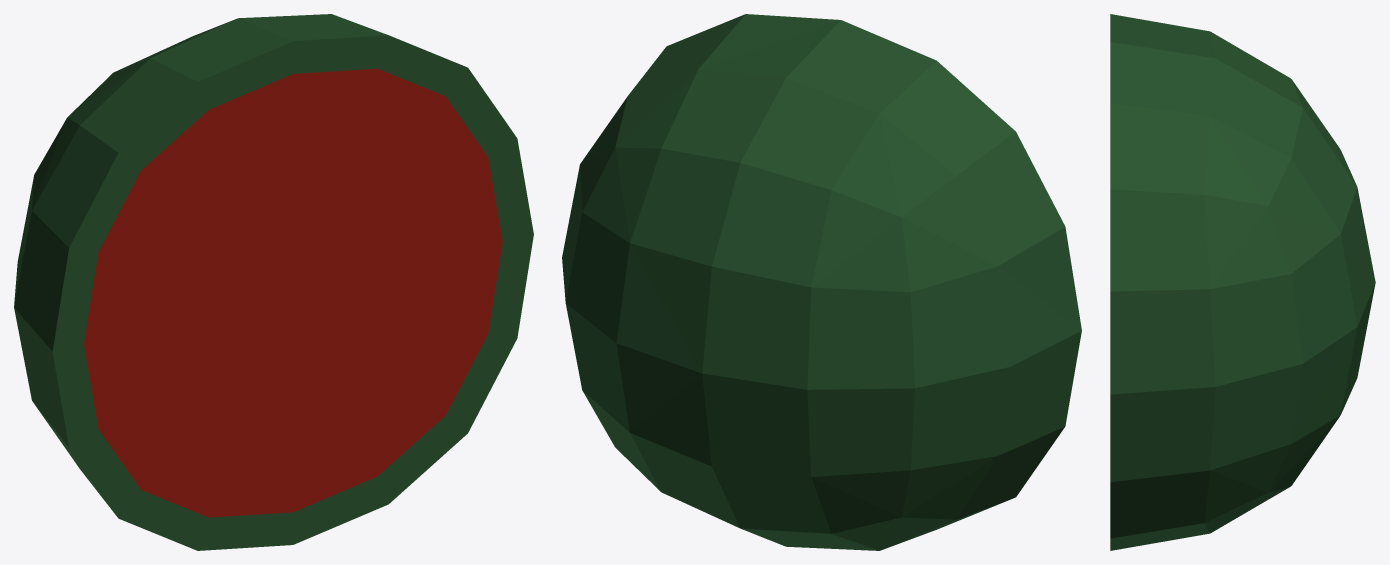
The model's file is Waterlemon_Cut1.fbx.
The picture shows the model from 3 angles, left to right: view 1: azimuth 30°, elevation 25°; view 2: azimuth 150°, elevation 25°; view 3: azimuth 270°, elevation 25°; orthographic projection. The views are drawn at different scales.
Parts seen in each view (by area): view 1: Waterlemon_Cut1; view 2: Waterlemon_Cut1; view 3: Waterlemon_Cut1.
Part boxes in pixels (x1,y1,x2,y2): Waterlemon_Cut1: (14,14,533,550); Waterlemon_Cut1: (562,14,1081,550); Waterlemon_Cut1: (1110,14,1375,550).
Bounding box in the file's own units: 168 × 168 × 83.95.
